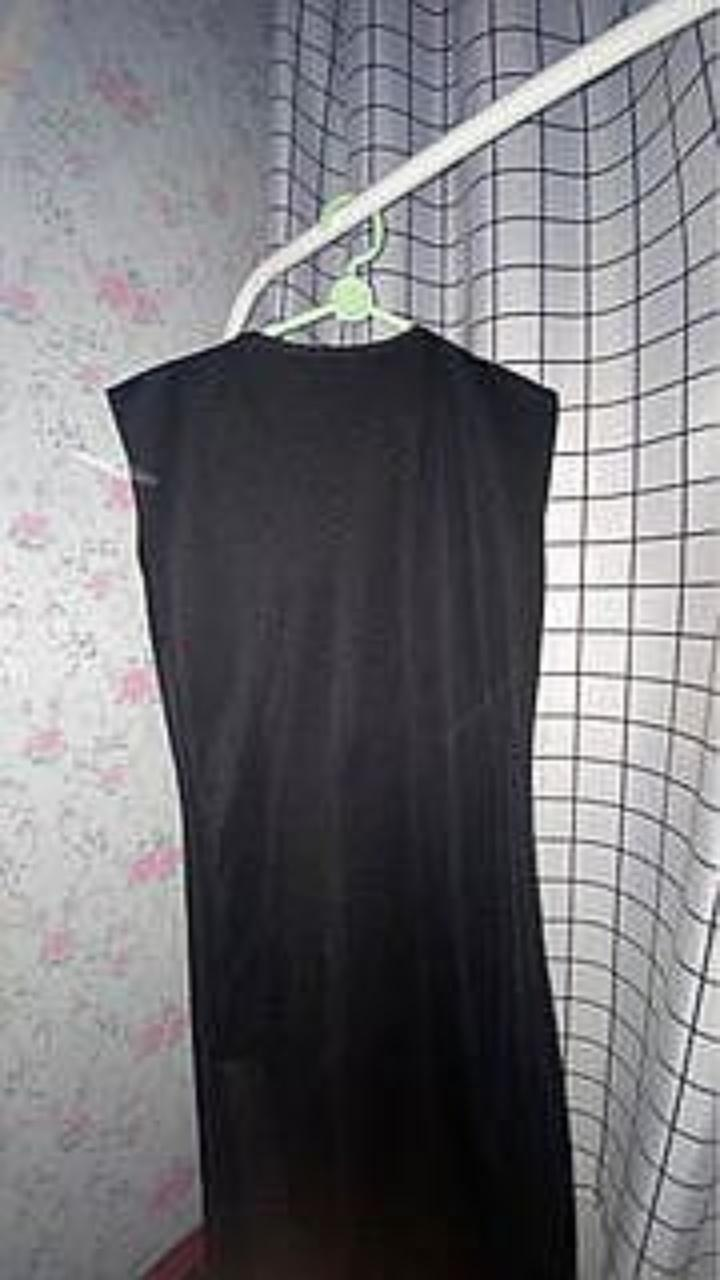Dresses: (106, 325, 575, 1279)
